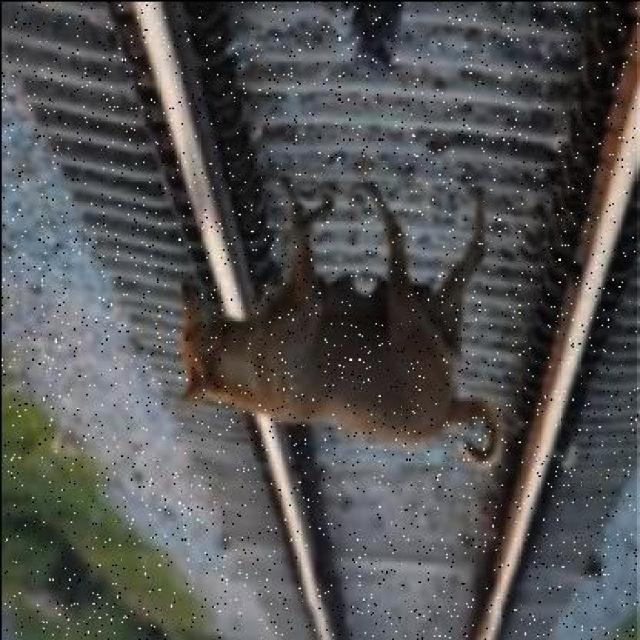rail: (2, 1, 638, 640)
